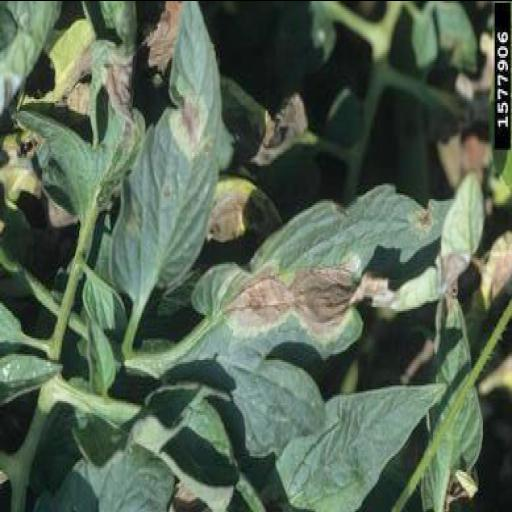disease_tomato: (126, 175, 428, 453), (117, 0, 229, 318)
